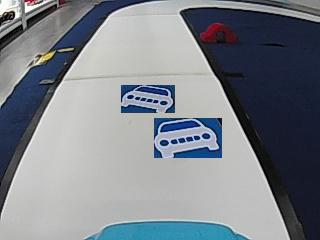bridge: (200, 22, 237, 43)
